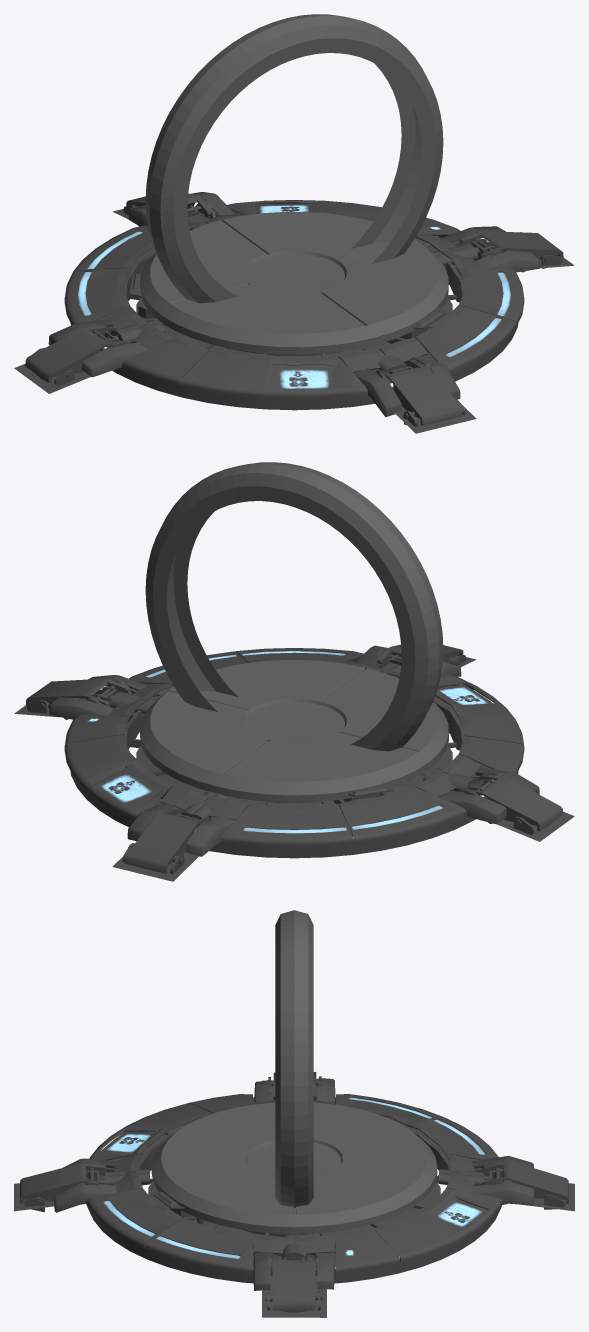
Rendered from Portal.glb.
3 views of the same model, one above another, from view 1: azimuth 30°, elevation 25°; view 2: azimuth 150°, elevation 25°; view 3: azimuth 270°, elevation 25° (orthographic). The views are drawn at different scales.
Visible parts, largest first — view 1: Platform1, Platform2, PortalBorder; view 2: Platform1, Platform2, PortalBorder; view 3: Platform1, Platform2, PortalBorder.
Part boxes in pixels (x1,y1,x2,y2): Platform1: [14, 192, 574, 433]; Platform2: [140, 211, 448, 354]; PortalBorder: [145, 14, 443, 303]; Platform1: [14, 644, 574, 881]; Platform2: [140, 660, 448, 802]; PortalBorder: [145, 462, 443, 751]; Platform1: [14, 1072, 574, 1317]; Platform2: [151, 1102, 437, 1233]; PortalBorder: [275, 910, 313, 1207].
Size of the model in its own units: 2.5 by 1.39 by 2.5.
